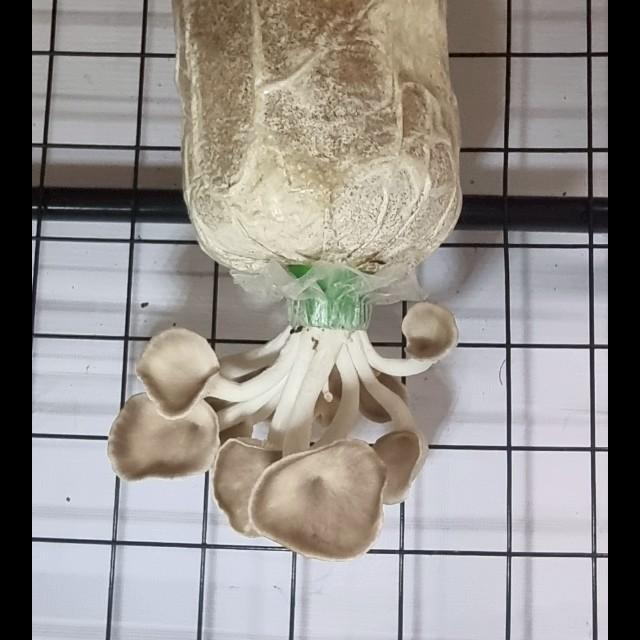normal: (246, 304, 406, 568), (102, 324, 322, 486)
